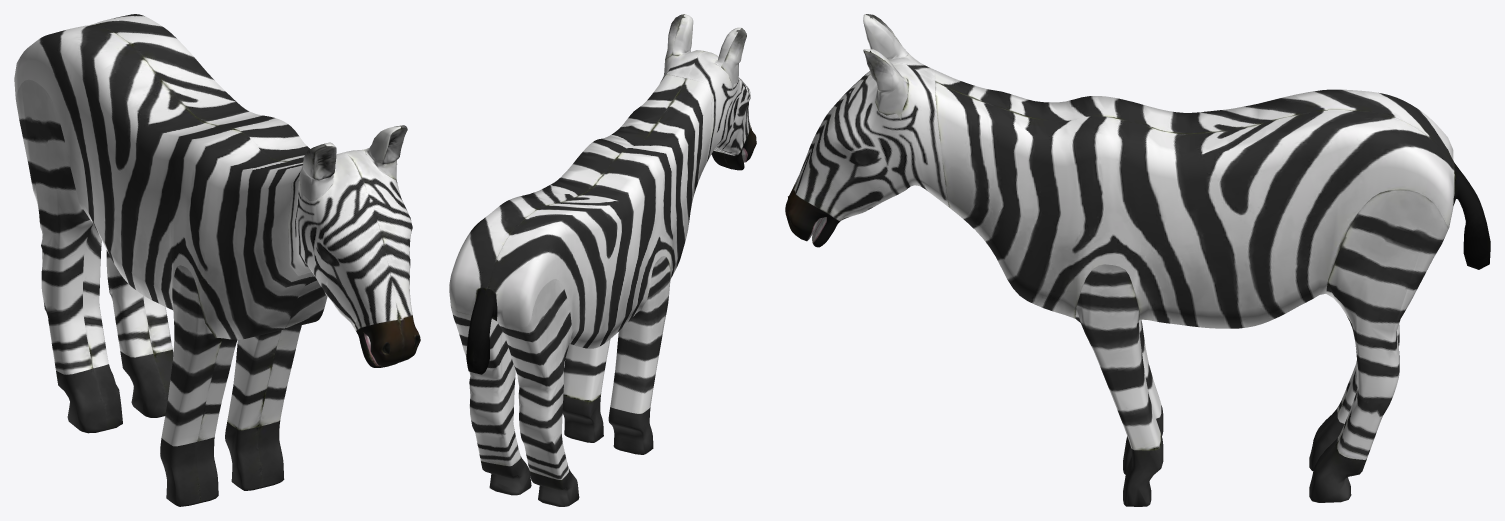
Rendered from zebra.glb.
3 views of the same model, side by side, from view 1: azimuth 30°, elevation 25°; view 2: azimuth 150°, elevation 25°; view 3: azimuth 270°, elevation 25° (orthographic). The views are drawn at different scales.
Visible parts, largest first — view 1: Object_2; view 2: Object_2; view 3: Object_2.
Part boxes in pixels (x1,y1,x2,y2): Object_2: (14, 14, 420, 506); Object_2: (449, 14, 756, 506); Object_2: (785, 14, 1490, 506).
Size of the model in its own units: 7.42 by 29.58 by 42.
1 material, 1 textured.
